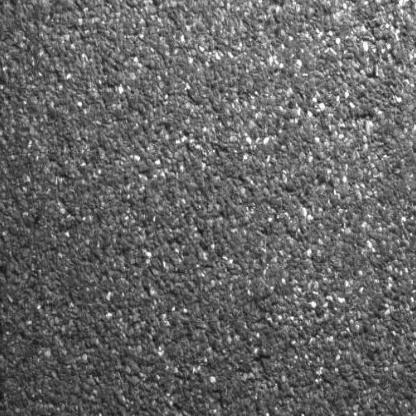Cracks: (0, 216, 12, 414)
